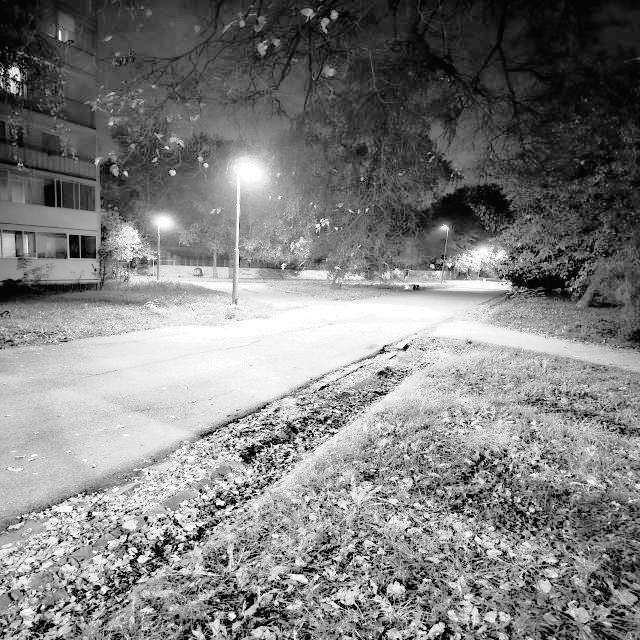Light: (232, 167, 257, 304), (156, 219, 167, 279), (440, 224, 450, 283)
